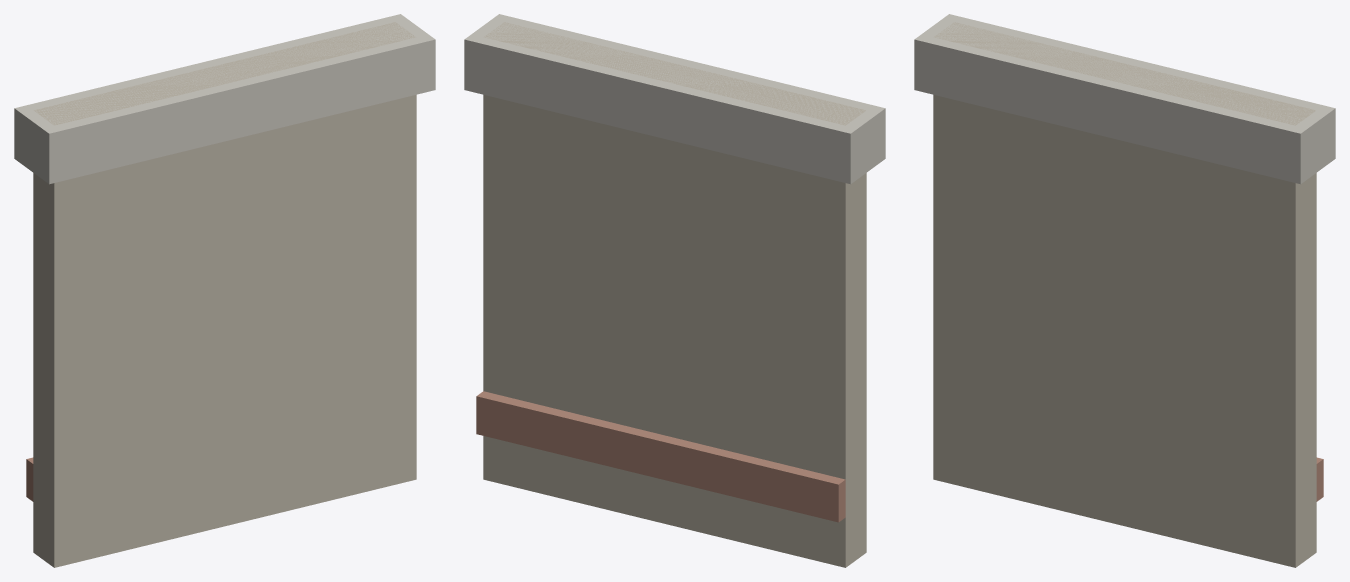
The model's file is iz3_build_defense_window_shutter_01.glb.
3 renders of one model, left to right at view 1: azimuth 30°, elevation 25°; view 2: azimuth 150°, elevation 25°; view 3: azimuth 330°, elevation 25°, orthographic.
Parts seen in each view (by area): view 1: wall, cornice; view 2: wall, cornice, sill; view 3: wall, cornice.
Part boxes in pixels (left/top/right/bottom): wall: left=33, top=22, right=416, bottom=567; cornice: left=14, top=14, right=435, bottom=184; wall: left=483, top=22, right=866, bottom=567; cornice: left=464, top=14, right=885, bottom=184; sill: left=476, top=391, right=845, bottom=522; wall: left=933, top=22, right=1316, bottom=567; cornice: left=914, top=14, right=1335, bottom=184.
Size of the model in its own units: 1.28 by 1.4 by 0.2.
